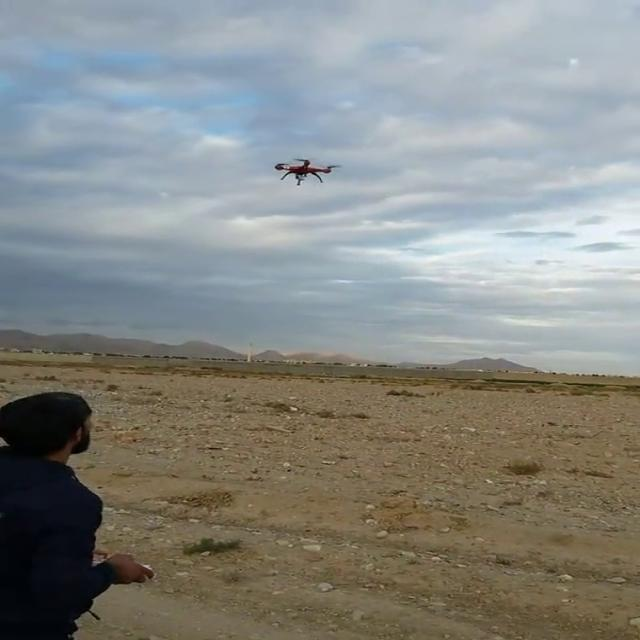drone: (269, 154, 341, 188)
